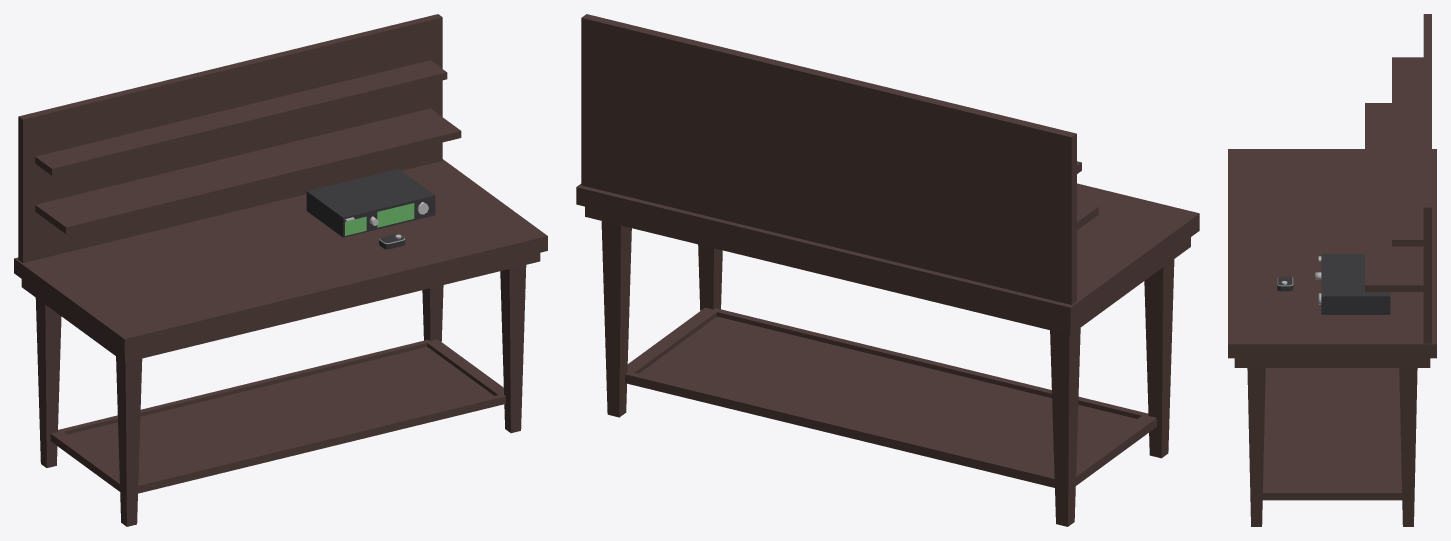
The model's file is RadioStation.fbx.
The picture shows the model from 3 angles, left to right: view 1: azimuth 30°, elevation 25°; view 2: azimuth 150°, elevation 25°; view 3: azimuth 270°, elevation 25°; orthographic projection. The views are drawn at different scales.
Parts seen in each view (by area): view 1: radioStation_table; view 2: radioStation_table; view 3: radioStation_table.
Part boxes in pixels (x1,y1,x2,y2): radioStation_table: (14,14,547,526); radioStation_table: (576,14,1199,526); radioStation_table: (1228,14,1436,526).
Bounding box in the file's own units: 1.39 × 1.08 × 0.6278.
